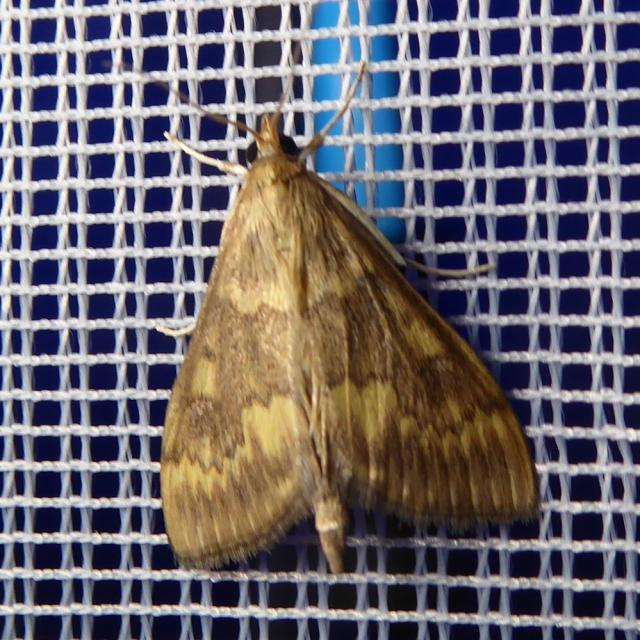cornborer-Adult-: (101, 49, 554, 586)
